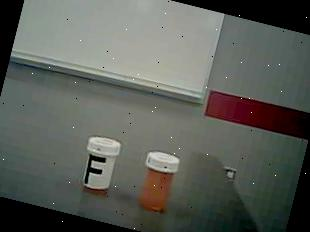Bottle F: (72, 132, 129, 203)
